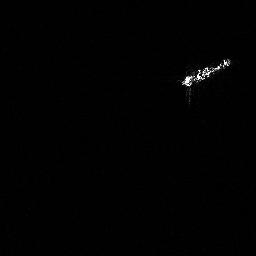ship: (177, 53, 234, 90)
